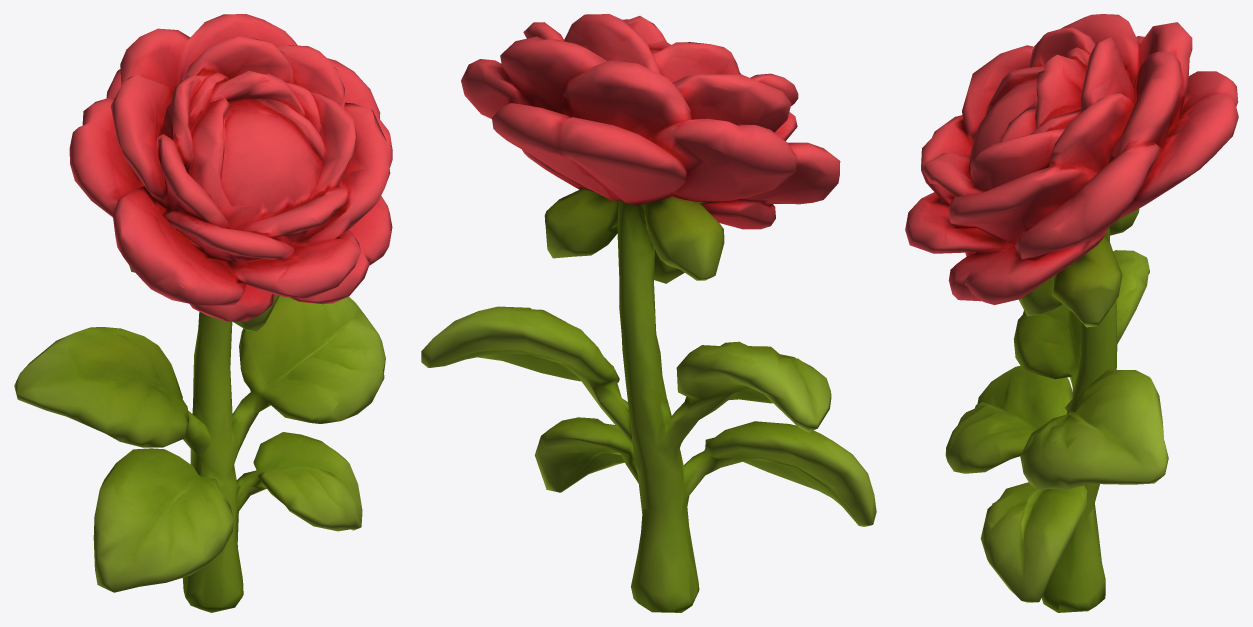
Rendered from rose_s5.glb.
The picture shows the model from 3 angles, left to right: view 1: azimuth 30°, elevation 25°; view 2: azimuth 150°, elevation 25°; view 3: azimuth 270°, elevation 25°; orthographic projection. The views are drawn at different scales.
Visible parts, largest first — view 1: tripo_node_11c61c59-c98c-4140-8ed2-5a2a9d6fc089; view 2: tripo_node_11c61c59-c98c-4140-8ed2-5a2a9d6fc089; view 3: tripo_node_11c61c59-c98c-4140-8ed2-5a2a9d6fc089.
Part boxes in pixels (x1,y1,x2,y2): tripo_node_11c61c59-c98c-4140-8ed2-5a2a9d6fc089: [14, 14, 392, 612]; tripo_node_11c61c59-c98c-4140-8ed2-5a2a9d6fc089: [421, 14, 876, 612]; tripo_node_11c61c59-c98c-4140-8ed2-5a2a9d6fc089: [905, 14, 1238, 612].
Size of the model in its own units: 0.6803 by 1 by 0.52.
1 material, 1 textured.
